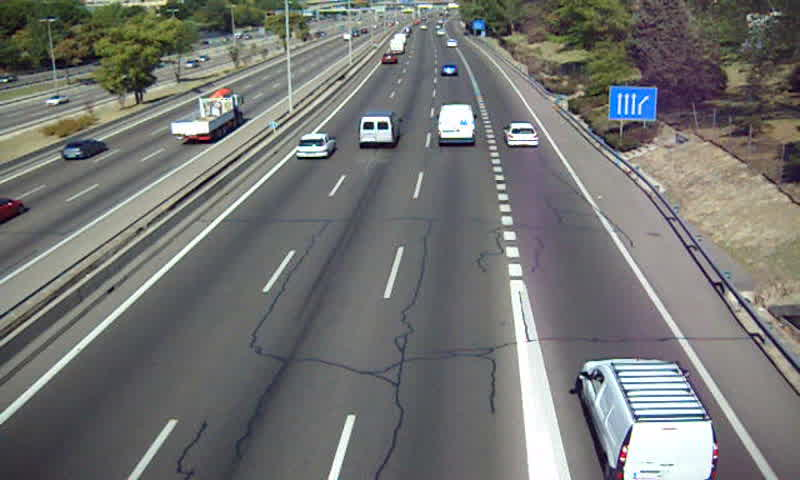car: (294, 132, 335, 160), (504, 122, 539, 147), (440, 63, 459, 78)
van: (581, 359, 719, 480), (438, 104, 476, 147), (360, 110, 401, 146)
